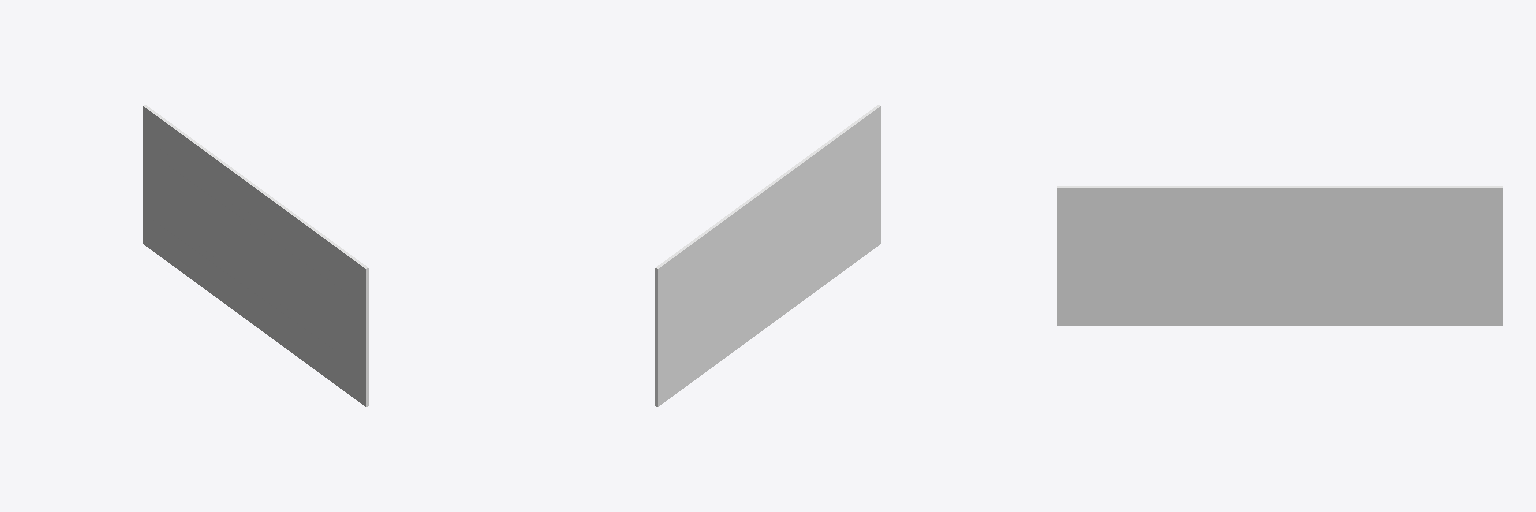
The model's file is fabrica-4.obj.
The picture shows the model from 3 angles: view 1: azimuth 30°, elevation 25°; view 2: azimuth 150°, elevation 25°; view 3: azimuth 270°, elevation 25°; orthographic projection.
Visible parts, largest first — view 1: object 1; view 2: object 1; view 3: object 1.
Boxes of the visible parts, x1,y1,x2,y2 form: object 1: [143, 105, 368, 406]; object 1: [655, 105, 880, 406]; object 1: [1057, 186, 1502, 325].
Size of the model in its own units: 0.1 by 4 by 11.7.